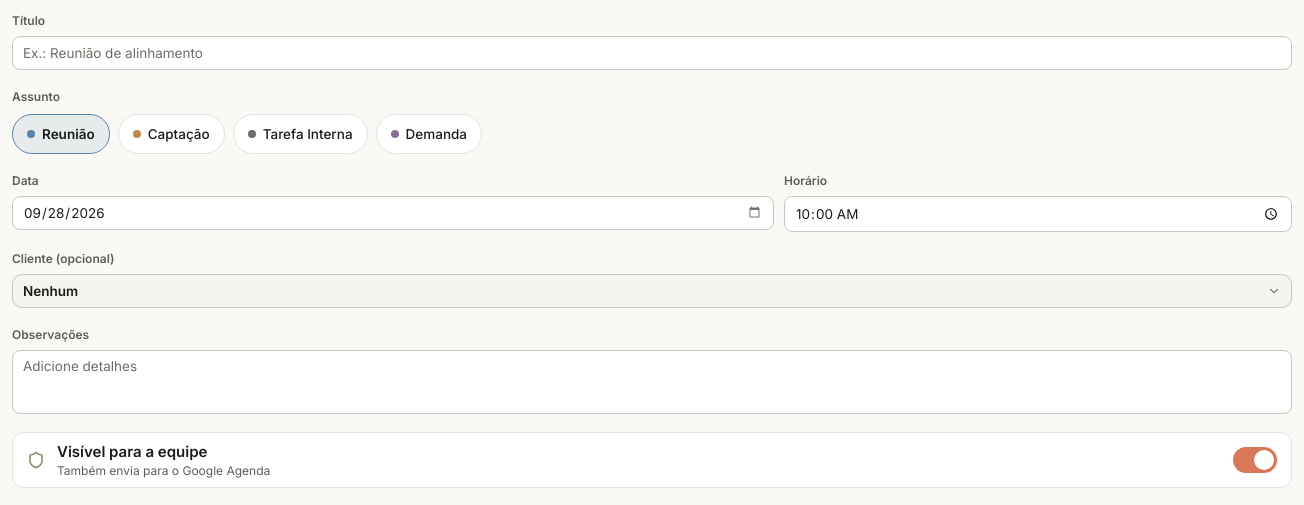
it: EventFormFields › visibilidade é uma chave acessível
The image size is (1304, 505).
Click the switch: click(132, 452) x1=12 y1=432 x2=1292 y2=488
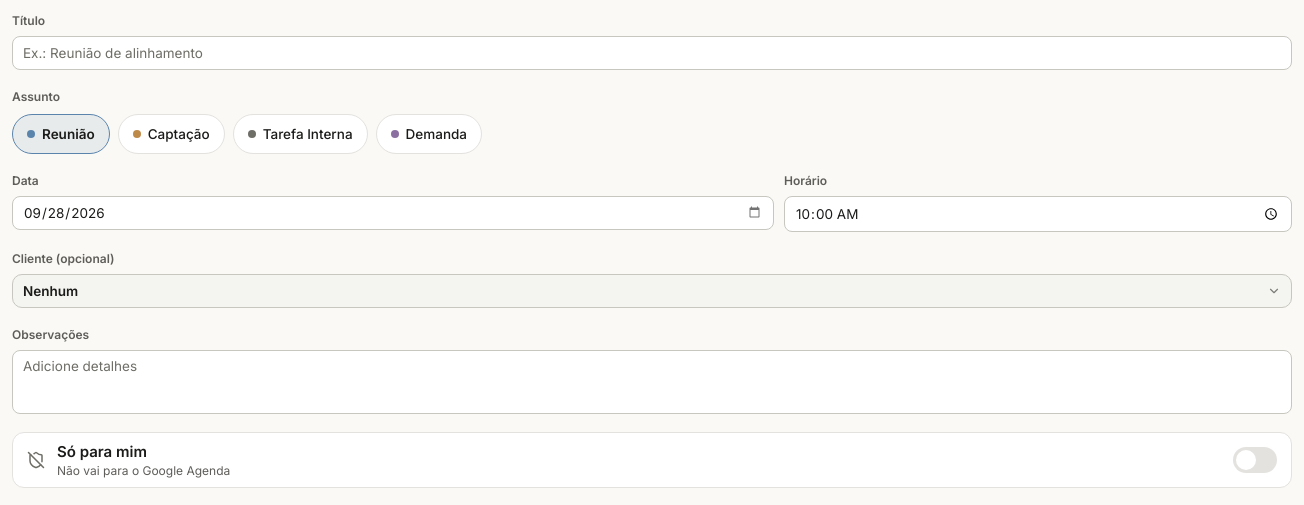
Now the text "Só para mim" is shown, box x1=57 y1=442 x2=147 y2=461
